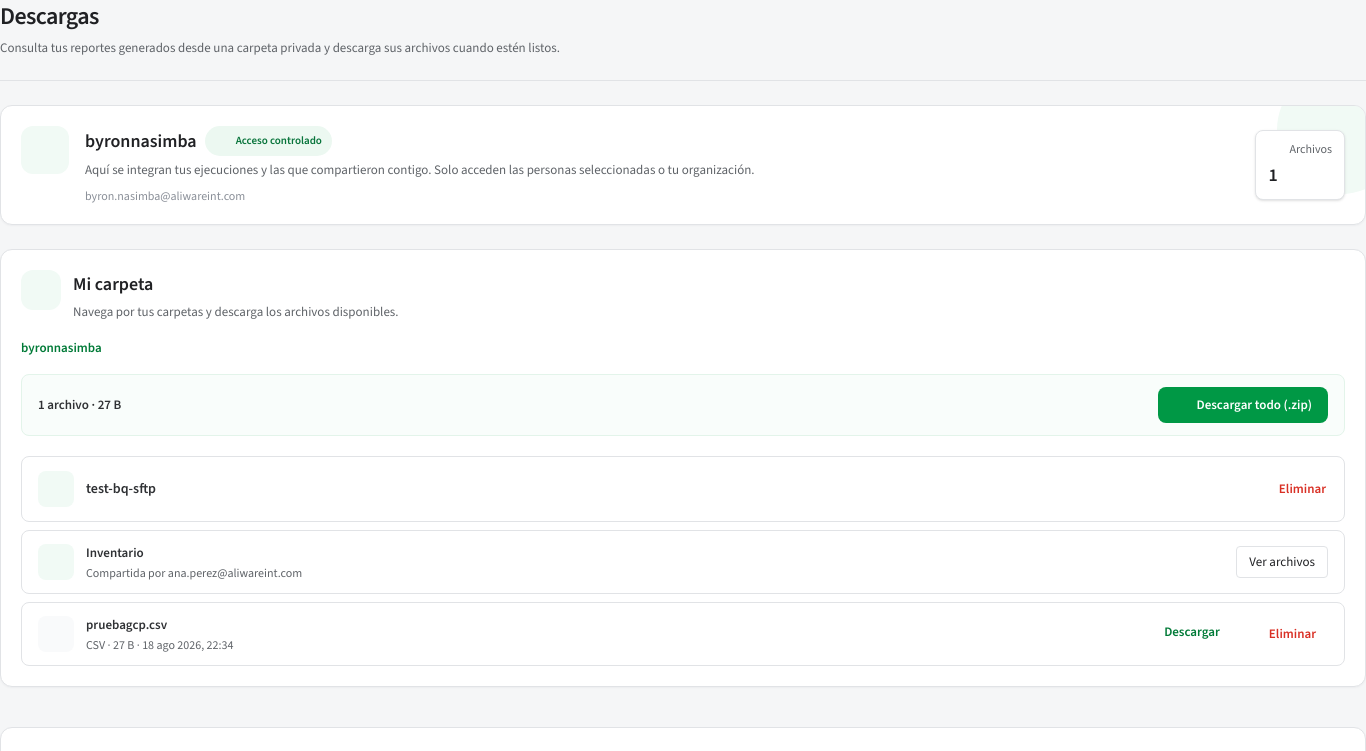
Test: admin ve confirmacion reforzada al eliminar una carpeta
This screenshot has width=1366, height=751.
Click the 1st button "Eliminar" at (1292, 489), box [1246, 471, 1338, 507]
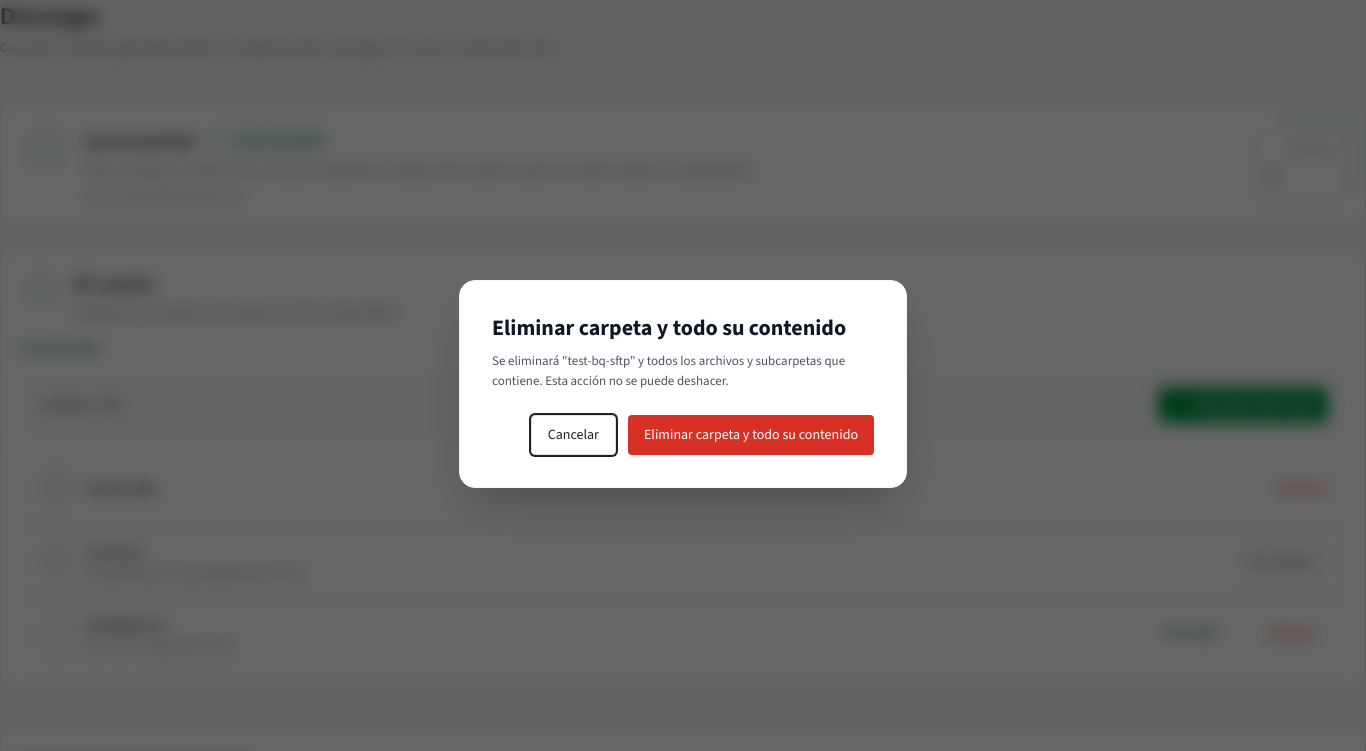
Expected: the text "Eliminar carpeta y todo su contenido" is shown, [492, 313, 874, 343]
